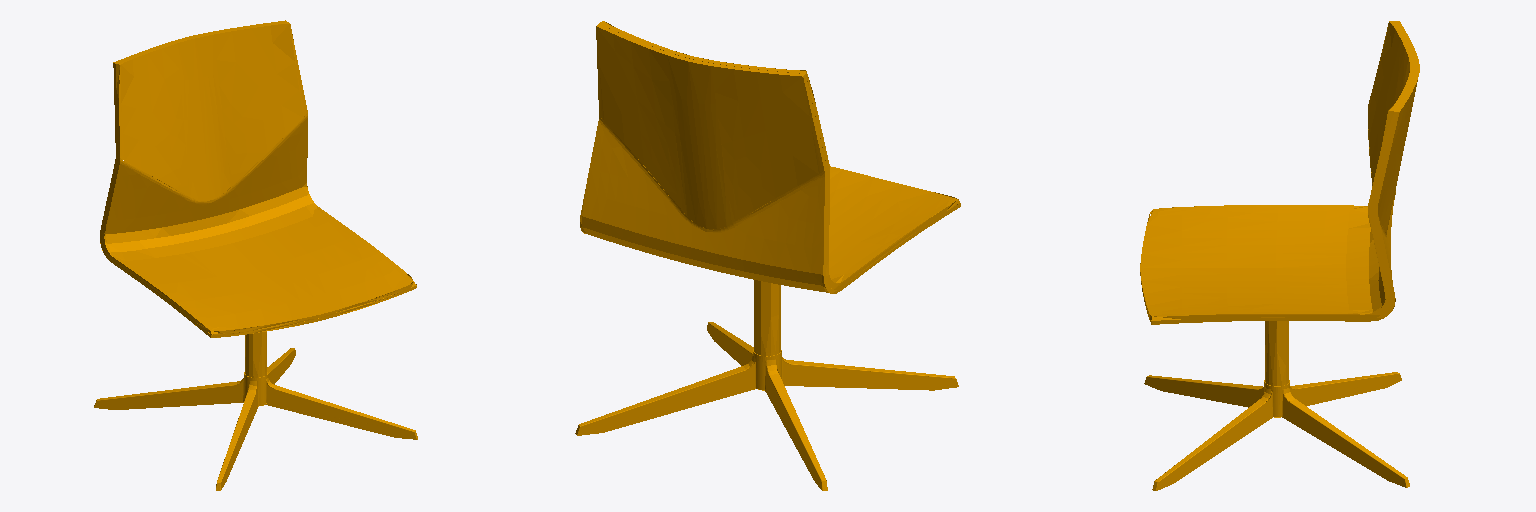
URDF robot description (5a60c649a221293d72ed554eb3baedcc):
<?xml version="1.0" ?>
<robot name="5a60c649a221293d72ed554eb3baedcc" version="1.0">
  <link name="base_link">
    <inertial>
      <origin rpy="0.0 0.0 0.0" xyz="0.0 0.0 0.0"/>
      <mass value="34.28575374773385"/>
      <inertia ixx="0.001" ixy="0.0" ixz="0.0" iyy="0.001" iyz="0.0" izz="0.001"/>
    </inertial>
    <visual name="5a60c649a221293d72ed554eb3baedcc___3">
      <origin rpy="0.0 0.0 0.0" xyz="0.0 -0.0 0.0"/>
      <geometry>
        <mesh filename="shape/visual/5a60c649a221293d72ed554eb3baedcc_m3_vm.obj"/>
      </geometry>
    </visual>
    <visual name="5a60c649a221293d72ed554eb3baedcc___2">
      <origin rpy="0.0 0.0 0.0" xyz="0.0 -0.0 0.0"/>
      <geometry>
        <mesh filename="shape/visual/5a60c649a221293d72ed554eb3baedcc_m2_vm.obj"/>
      </geometry>
    </visual>
    <visual name="5a60c649a221293d72ed554eb3baedcc___1">
      <origin rpy="0.0 0.0 0.0" xyz="0.0 -0.0 0.0"/>
      <geometry>
        <mesh filename="shape/visual/5a60c649a221293d72ed554eb3baedcc_m1_vm.obj"/>
      </geometry>
    </visual>
    <collision>
      <origin rpy="0.0 0.0 0.0" xyz="0.0 -0.0 0.0"/>
      <geometry>
        <mesh filename="shape/collision/5a60c649a221293d72ed554eb3baedcc_cm.obj"/>
      </geometry>
    </collision>
  </link>
</robot>

--- Facts derived from the render (not from the file) ---
The picture shows the robot from 3 angles, left to right: view 1: azimuth 30°, elevation 25°; view 2: azimuth 150°, elevation 25°; view 3: azimuth 270°, elevation 25°; orthographic projection.
Model 5a60c649a221293d72ed554eb3baedcc with 1 links and 0 joints (none), rooted at base_link, posed every joint at zero.
Links seen in each view (by area): view 1: base_link; view 2: base_link; view 3: base_link.
Boxes of the visible links, x1,y1,x2,y2 form: base_link: (94, 20, 417, 490); base_link: (575, 21, 960, 490); base_link: (1140, 21, 1419, 490).
Bounding box of the posed robot: 0.474 × 0.498 × 0.7261 m (x, y, z).
3 mesh visuals loaded from 3 distinct referenced files (3 OBJ).